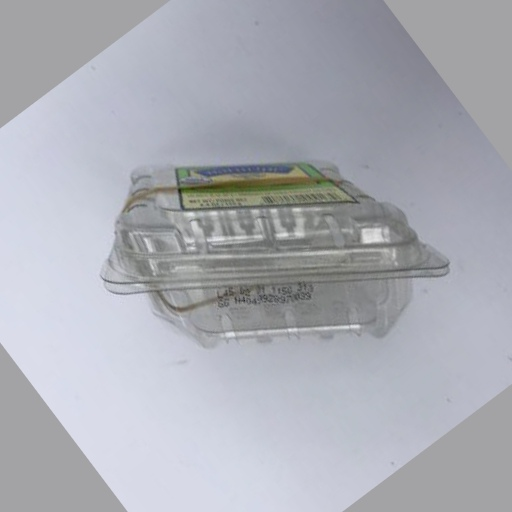Plastic_4: (98, 159, 451, 339)
